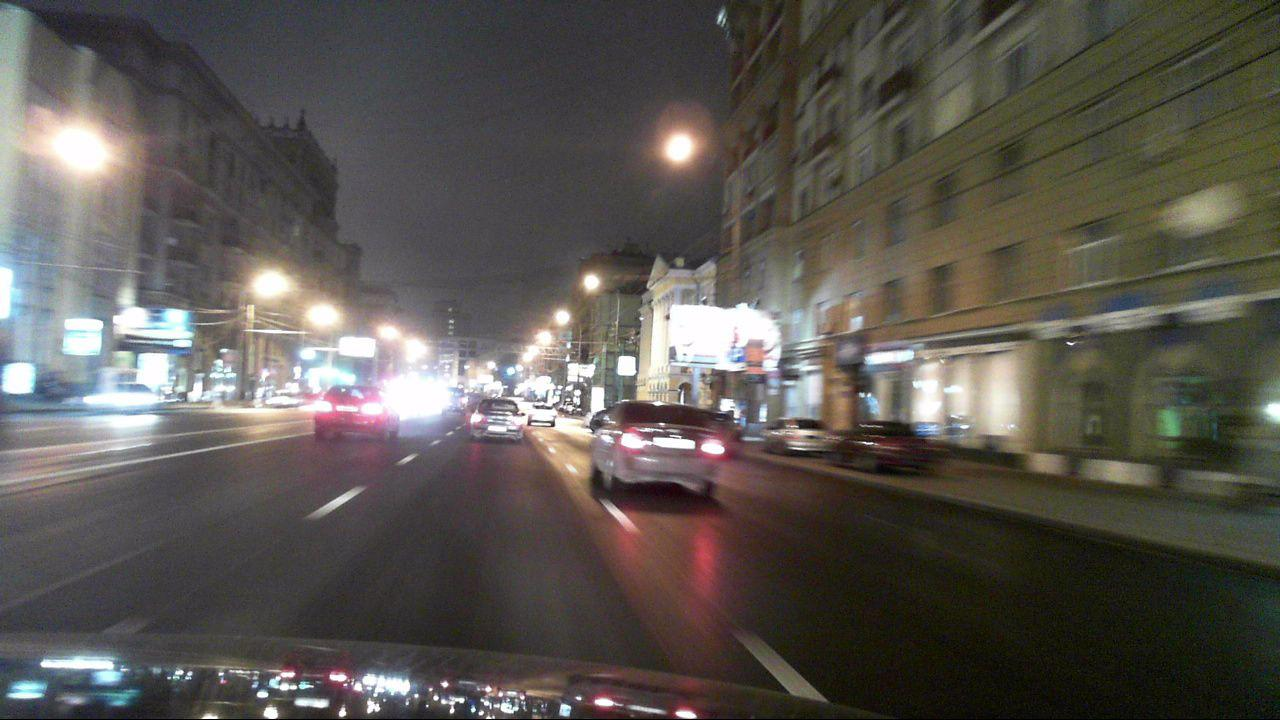6_4: (730, 346, 746, 362)
